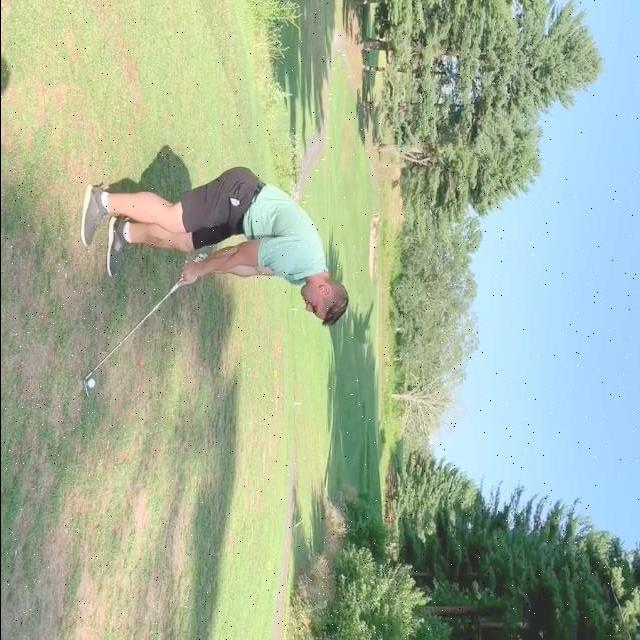golf ball: (87, 378, 94, 388)
golf club-handle: (82, 255, 207, 398)
golf club-head: (83, 381, 88, 398)
